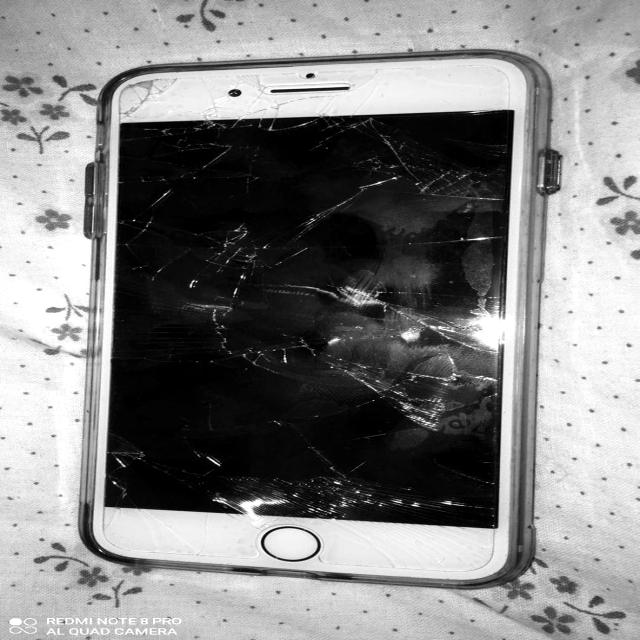Crack: (84, 305, 547, 582), (95, 68, 522, 310)
